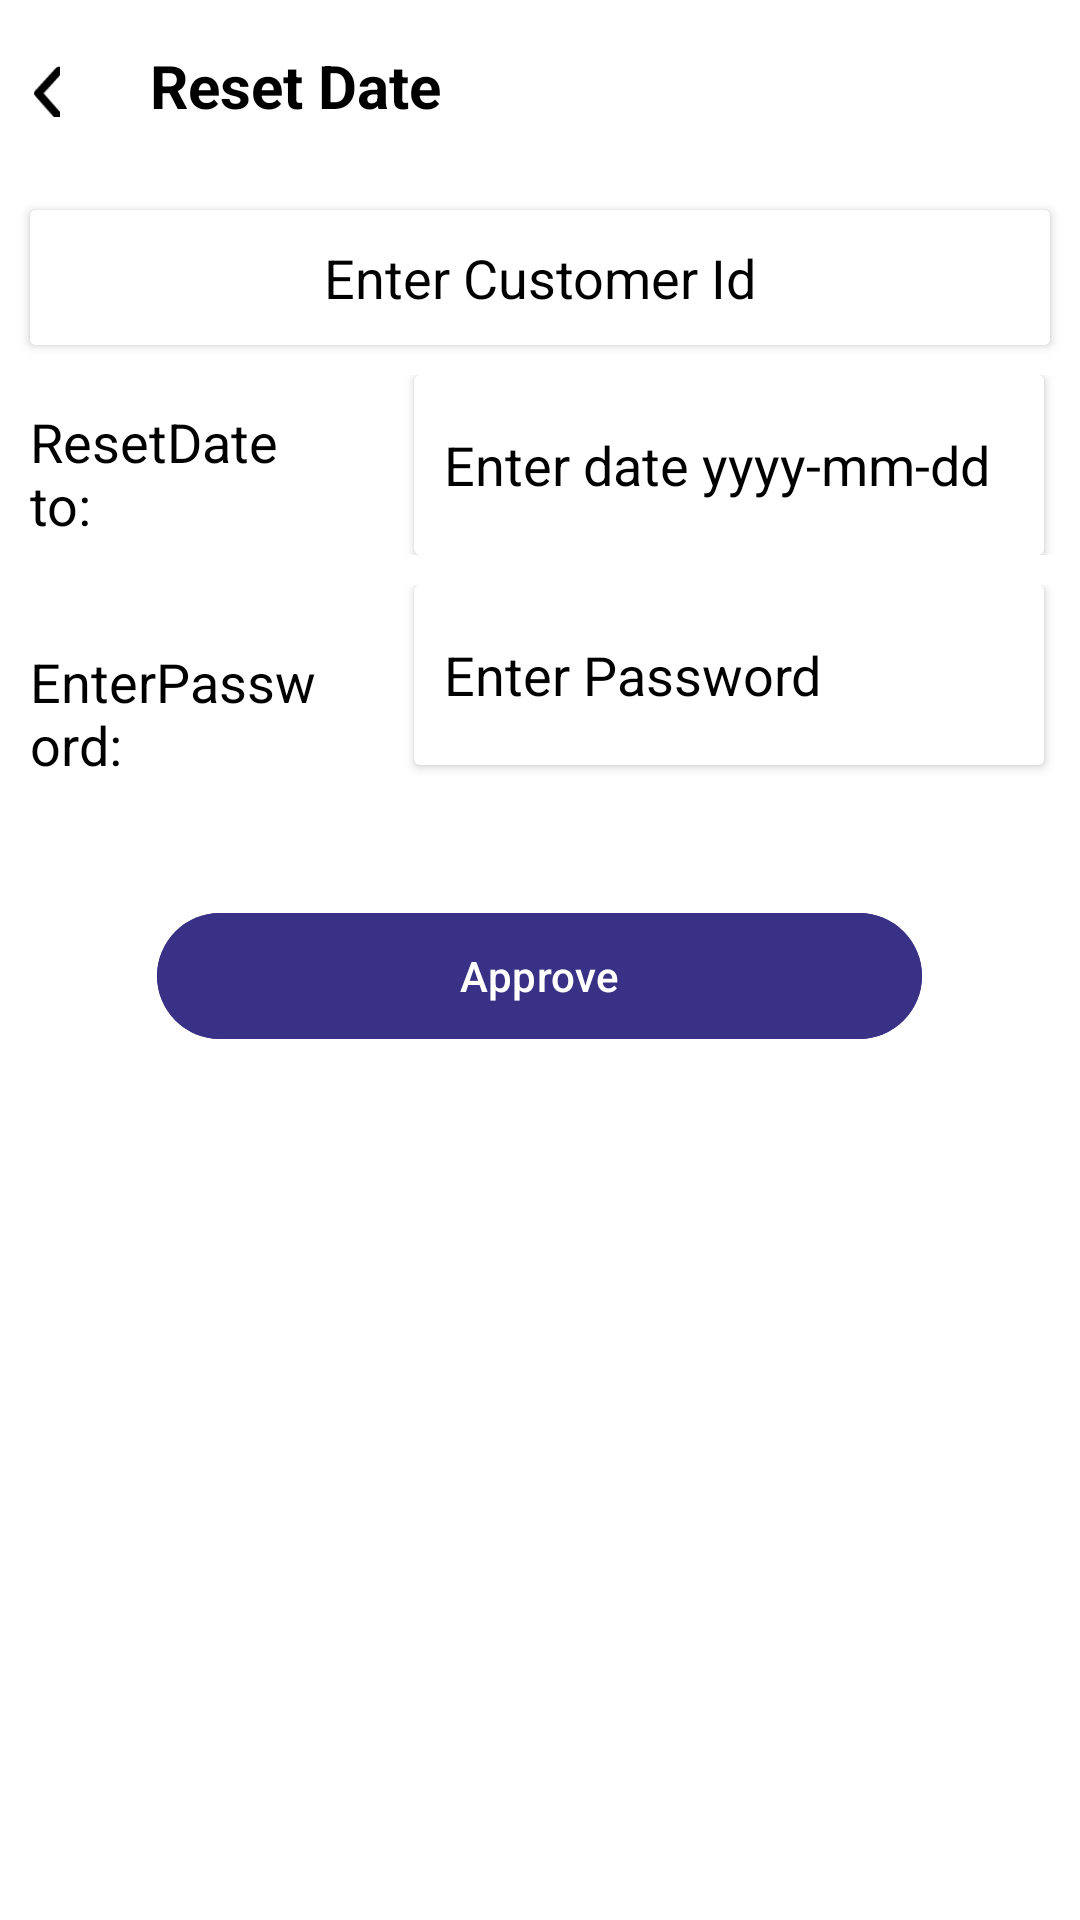

Where icons sit on this 1080x1920 app screen, as (x1, y1, x2, y2):
arrowback: (34, 66, 60, 117)
